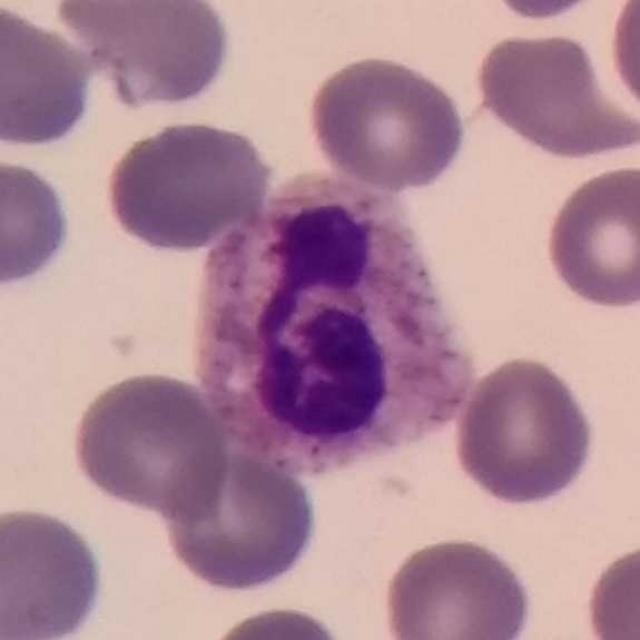Neutrophil: (176, 183, 484, 487)
RBC: (67, 366, 234, 522), (158, 443, 323, 597), (99, 115, 275, 252), (303, 50, 471, 193), (449, 352, 598, 508), (470, 27, 639, 164), (60, 1, 236, 115), (378, 532, 536, 640), (540, 159, 640, 314), (0, 502, 110, 640), (0, 1, 97, 154), (0, 153, 77, 297), (49, 1, 213, 51), (197, 601, 355, 640), (581, 536, 640, 640), (604, 1, 640, 121), (480, 0, 614, 24)
